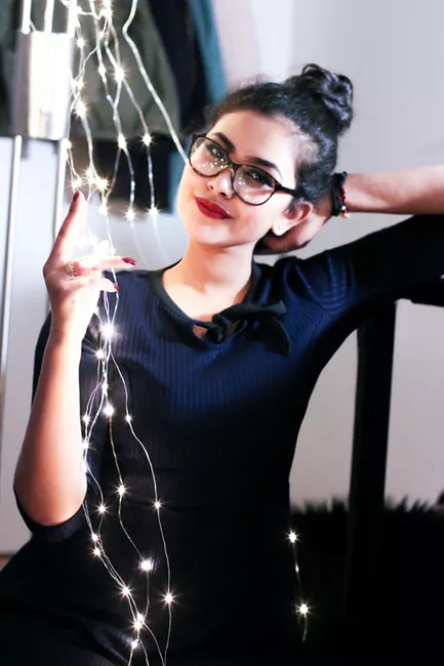face: (179, 113, 292, 247)
